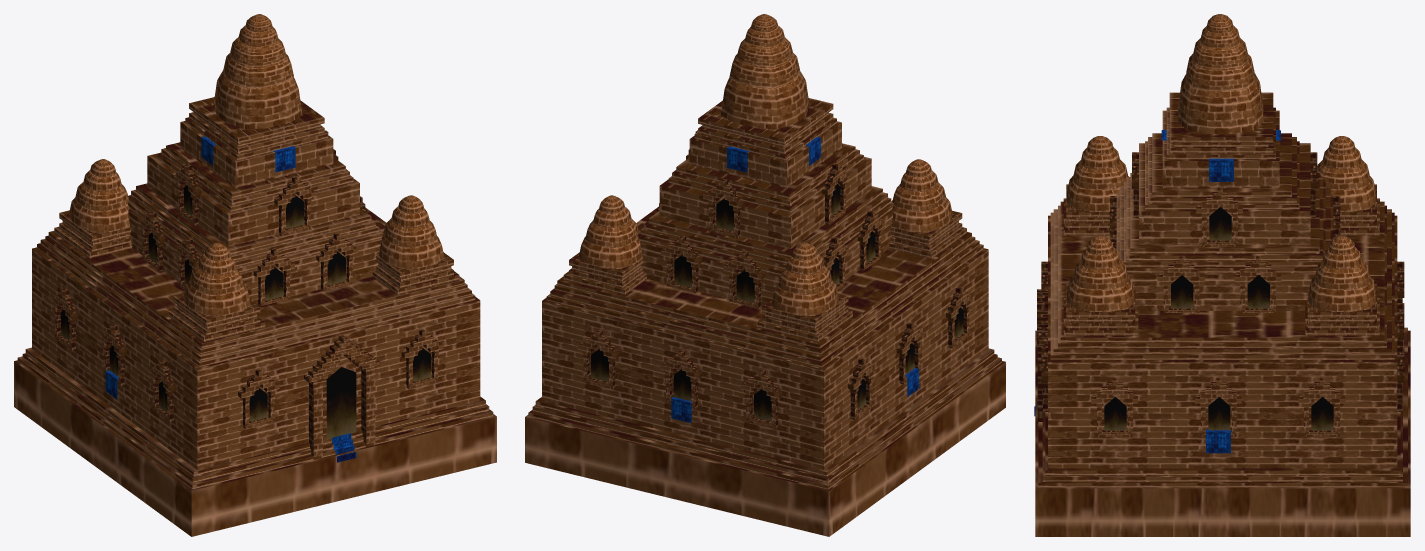
Rendered from vihara.dae.
The picture shows the model from 3 angles, left to right: view 1: azimuth 30°, elevation 25°; view 2: azimuth 150°, elevation 25°; view 3: azimuth 270°, elevation 25°; orthographic projection. The views are drawn at different scales.
Parts seen in each view (by area): view 1: vihara; view 2: vihara; view 3: vihara.
Part boxes in pixels (x1,y1,x2,y2): vihara: (14,14,496,536); vihara: (525,14,1005,536); vihara: (1034,14,1410,536).
Bounding box in the file's own units: 24.85 × 25.08 × 32.63.
